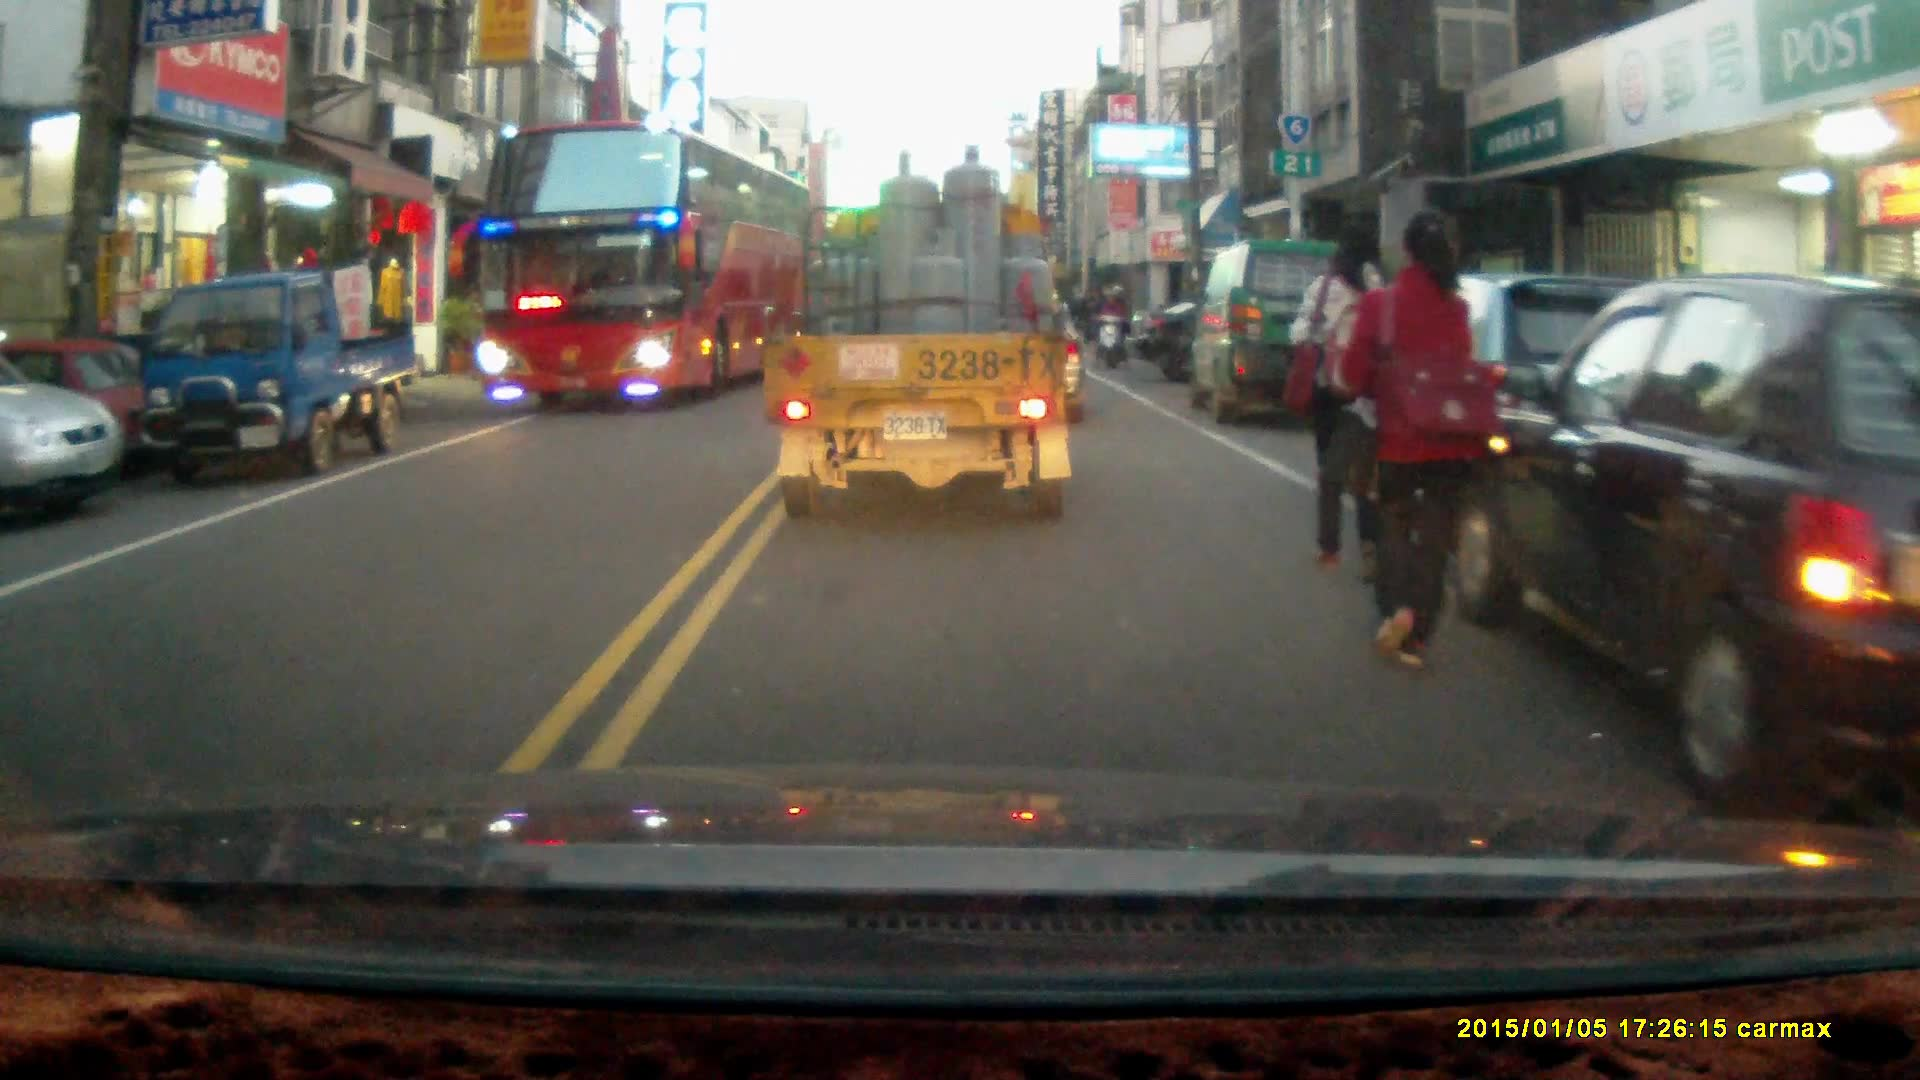pedestrian: (1337, 208, 1485, 674), (1293, 212, 1412, 587)
rider: (1092, 281, 1132, 369)
vehicle: (1450, 271, 1920, 796), (759, 143, 1080, 521), (470, 118, 814, 415), (132, 273, 418, 476), (1195, 236, 1377, 423), (1, 348, 123, 520)
